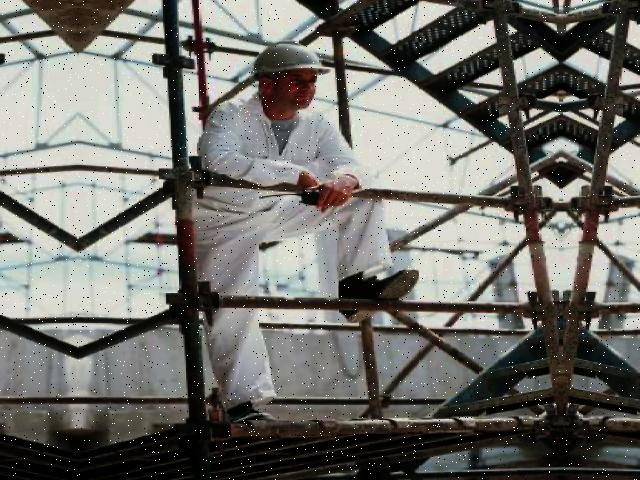Helmet: (248, 35, 338, 83)
